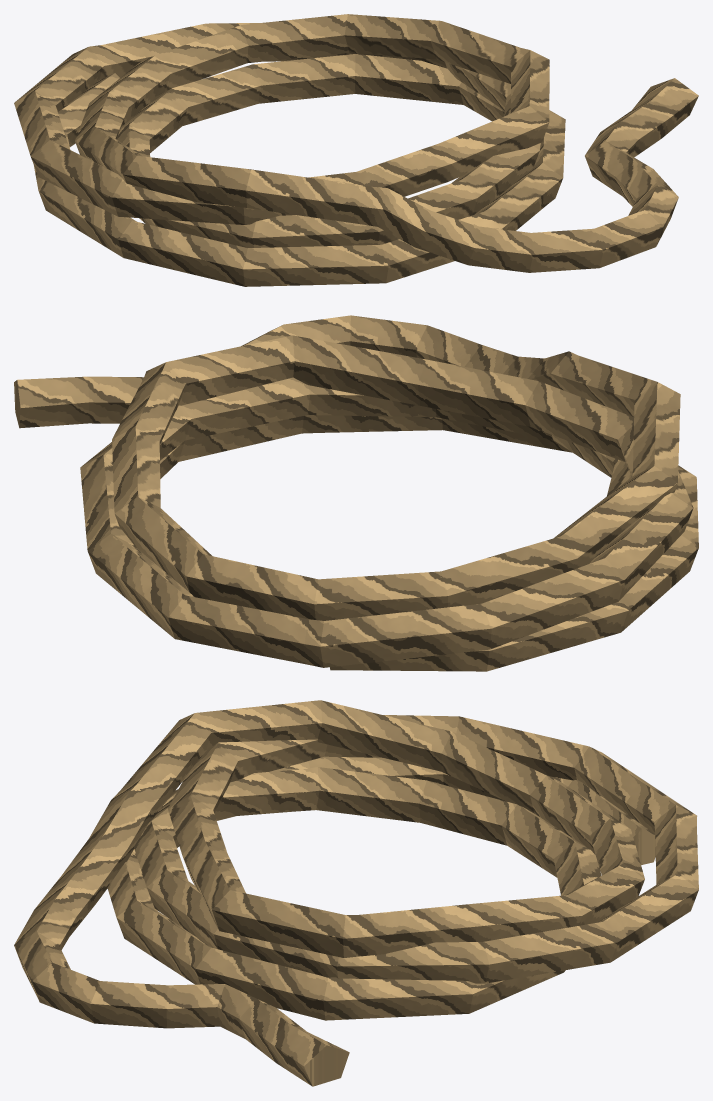
The model's file is SM_RopeCoil.fbx.
3 renders of one model, top to bottom at view 1: azimuth 30°, elevation 25°; view 2: azimuth 150°, elevation 25°; view 3: azimuth 270°, elevation 25°, orthographic. The views are drawn at different scales.
Parts seen in each view (by area): view 1: SM_RopeCoil; view 2: SM_RopeCoil; view 3: SM_RopeCoil.
Boxes of the visible parts, x1,y1,x2,y2 form: SM_RopeCoil: [14, 14, 698, 286]; SM_RopeCoil: [14, 315, 698, 671]; SM_RopeCoil: [14, 700, 698, 1086].
Bounding box in the file's own units: 0.6384 × 0.109 × 0.591.
